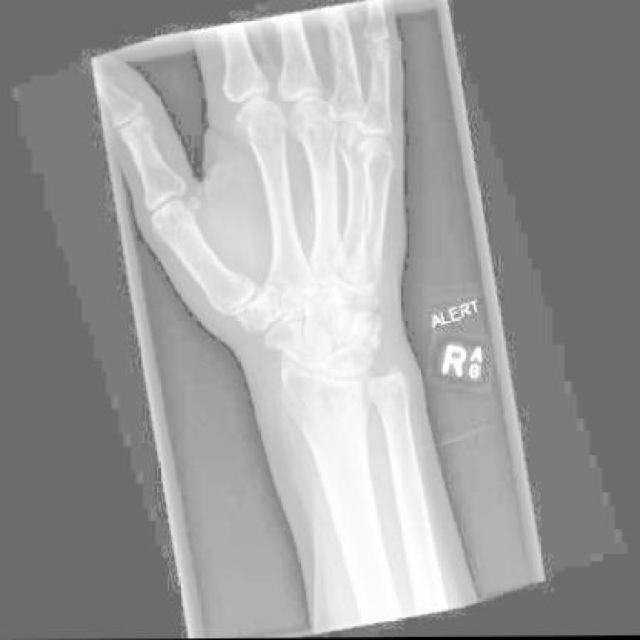Fracture: (350, 320, 384, 354)
